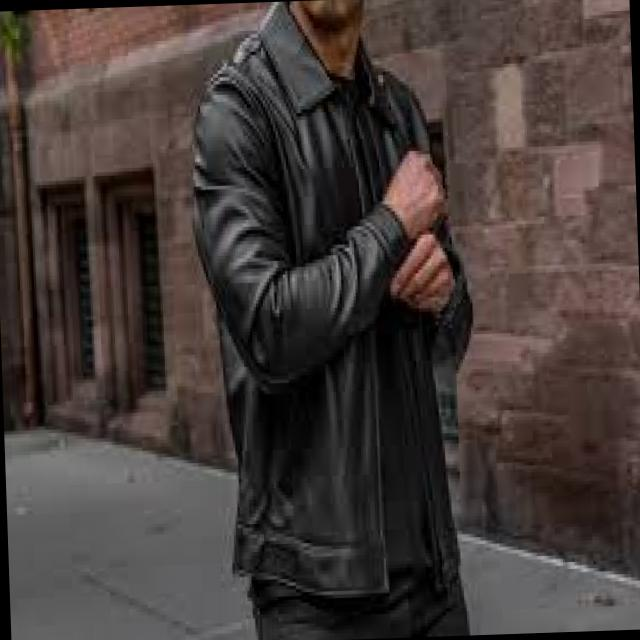Jacket: (190, 31, 482, 600)
